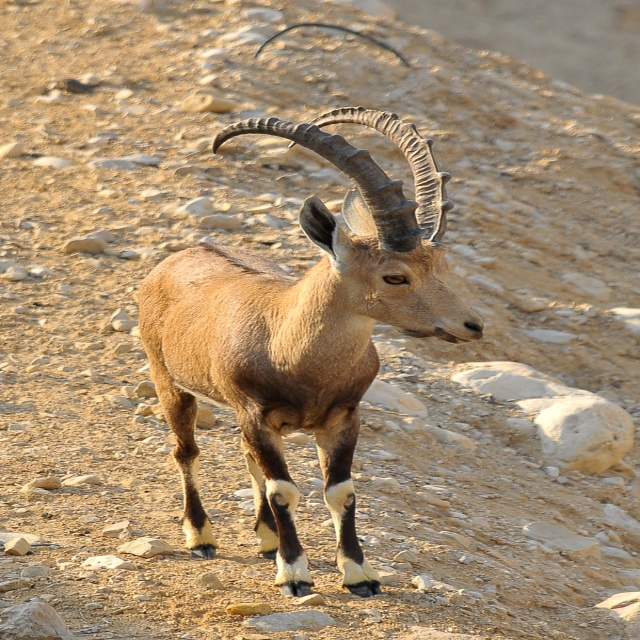Goat: (135, 106, 485, 597)
